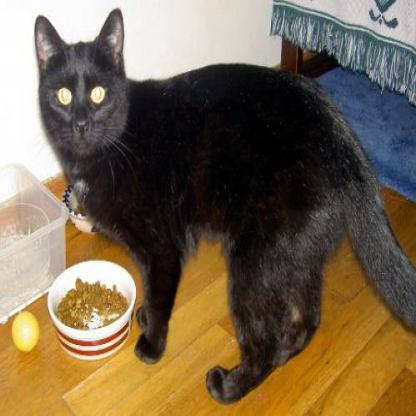cat: (29, 13, 384, 376)
